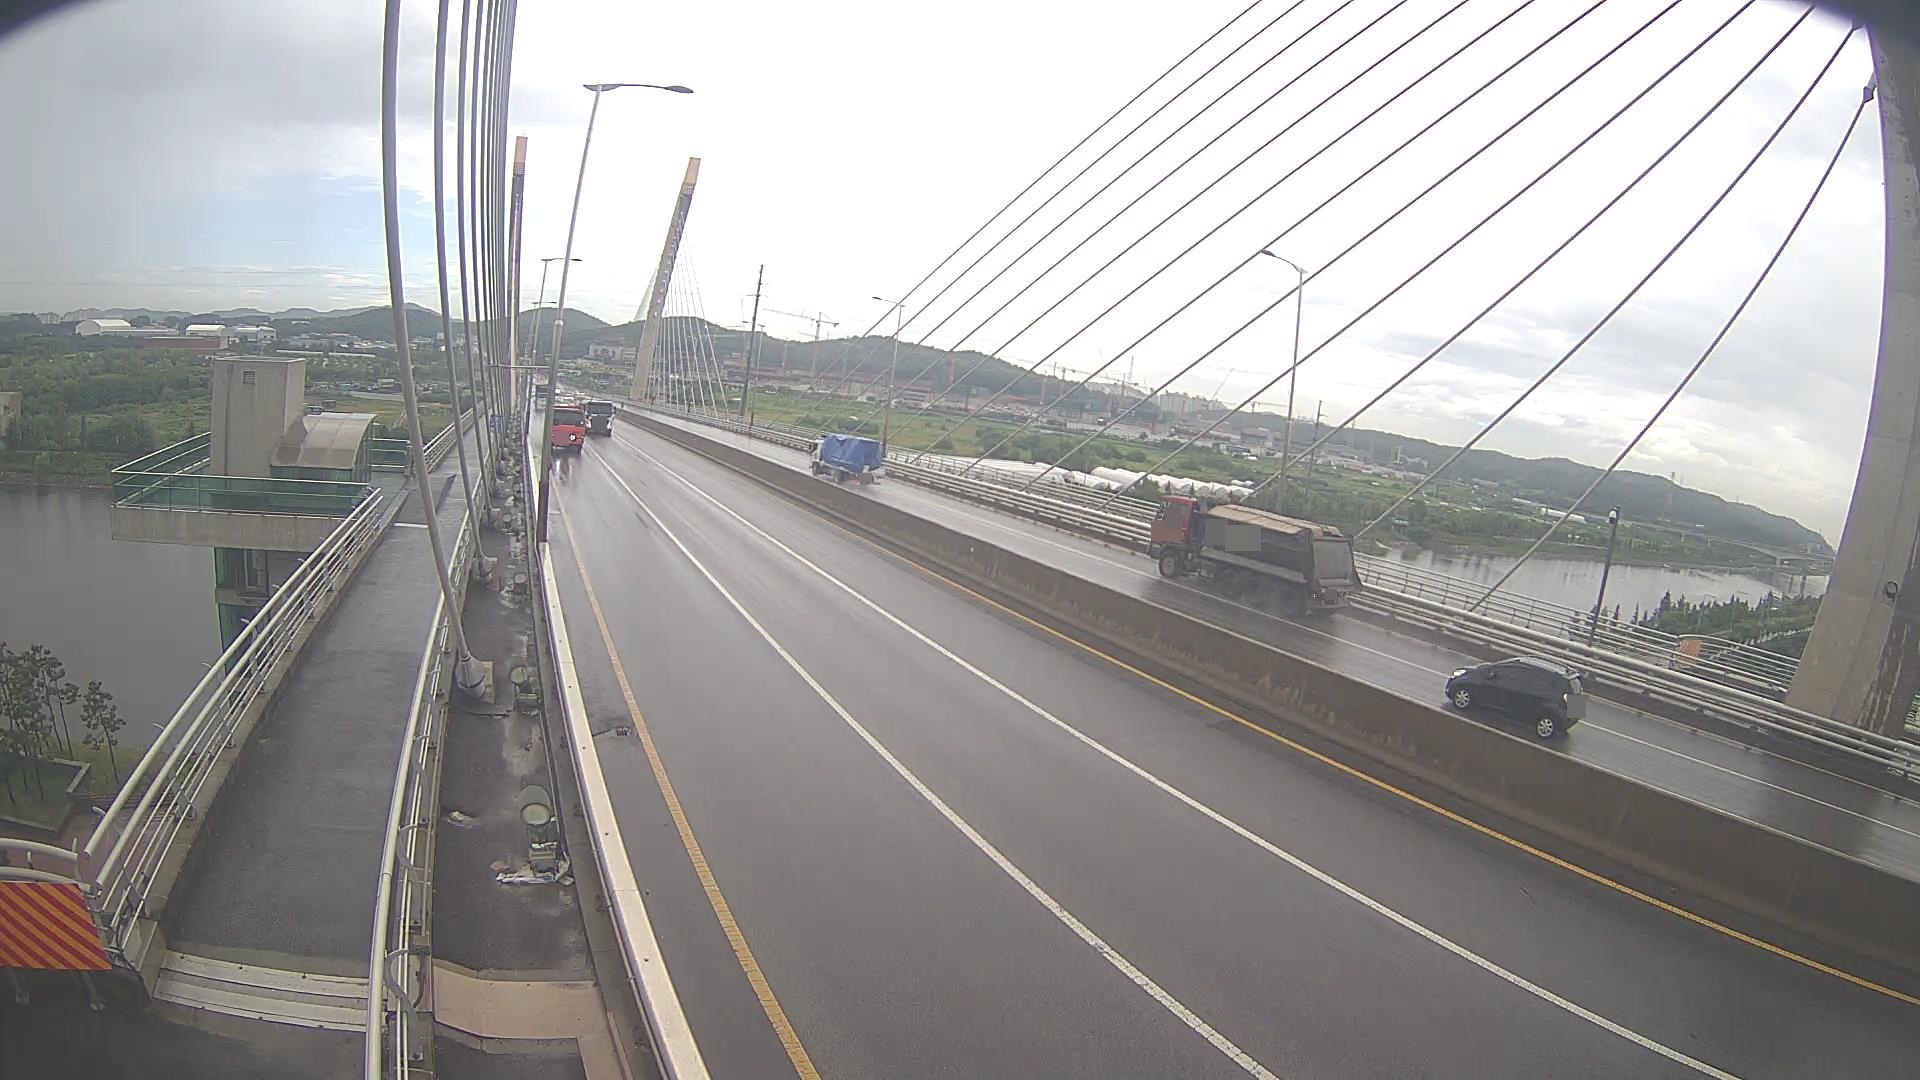정상차량: (1150, 495, 1362, 618)
